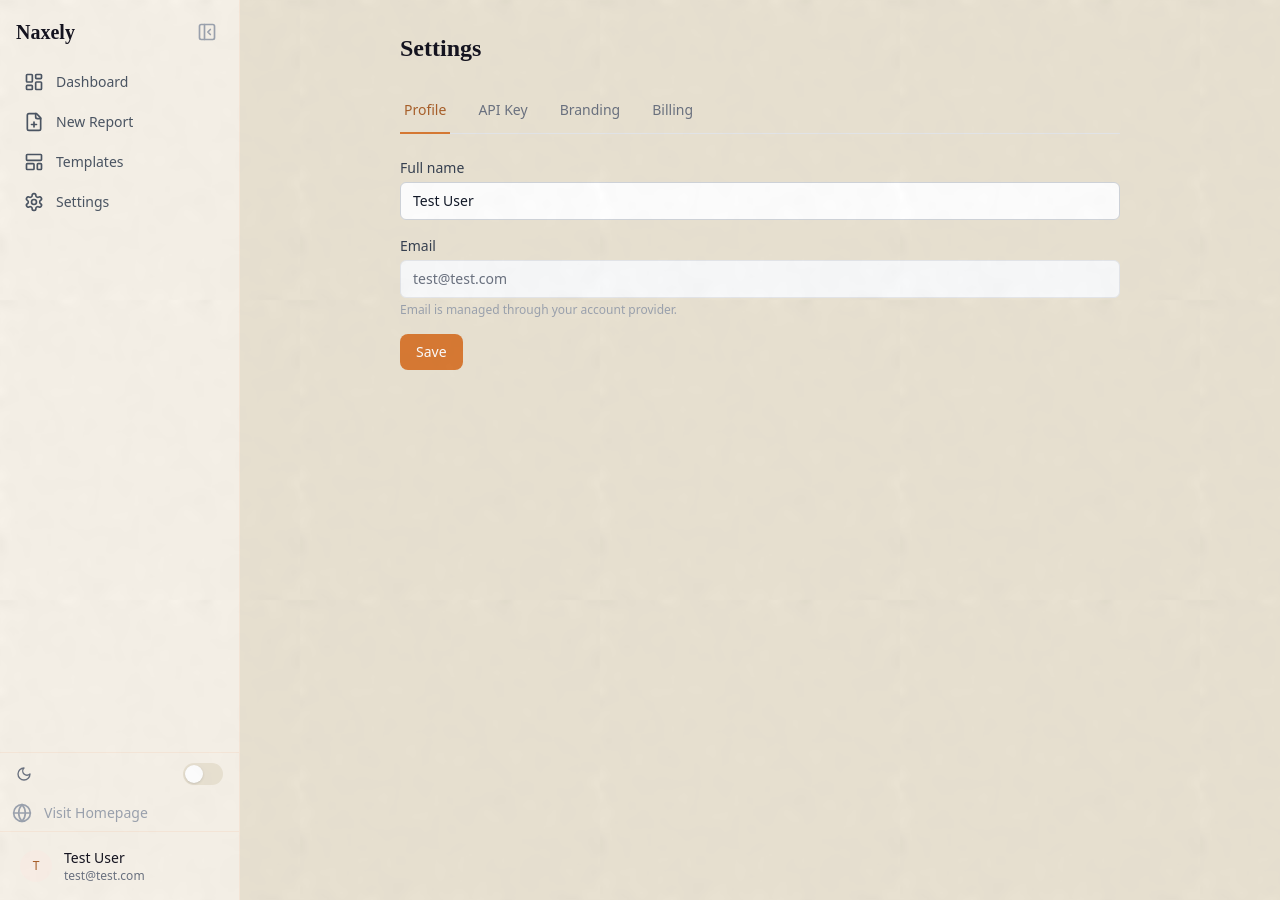
it: Settings › shows branding form for pro user
Expected: the link "Settings" is shown, top-left (24, 192), bottom-right (109, 212)
What coordinates should you click on to do the following:
click the button "Branding"
I would click on:
 (590, 111)
Its box is top-left (556, 88), bottom-right (624, 134).
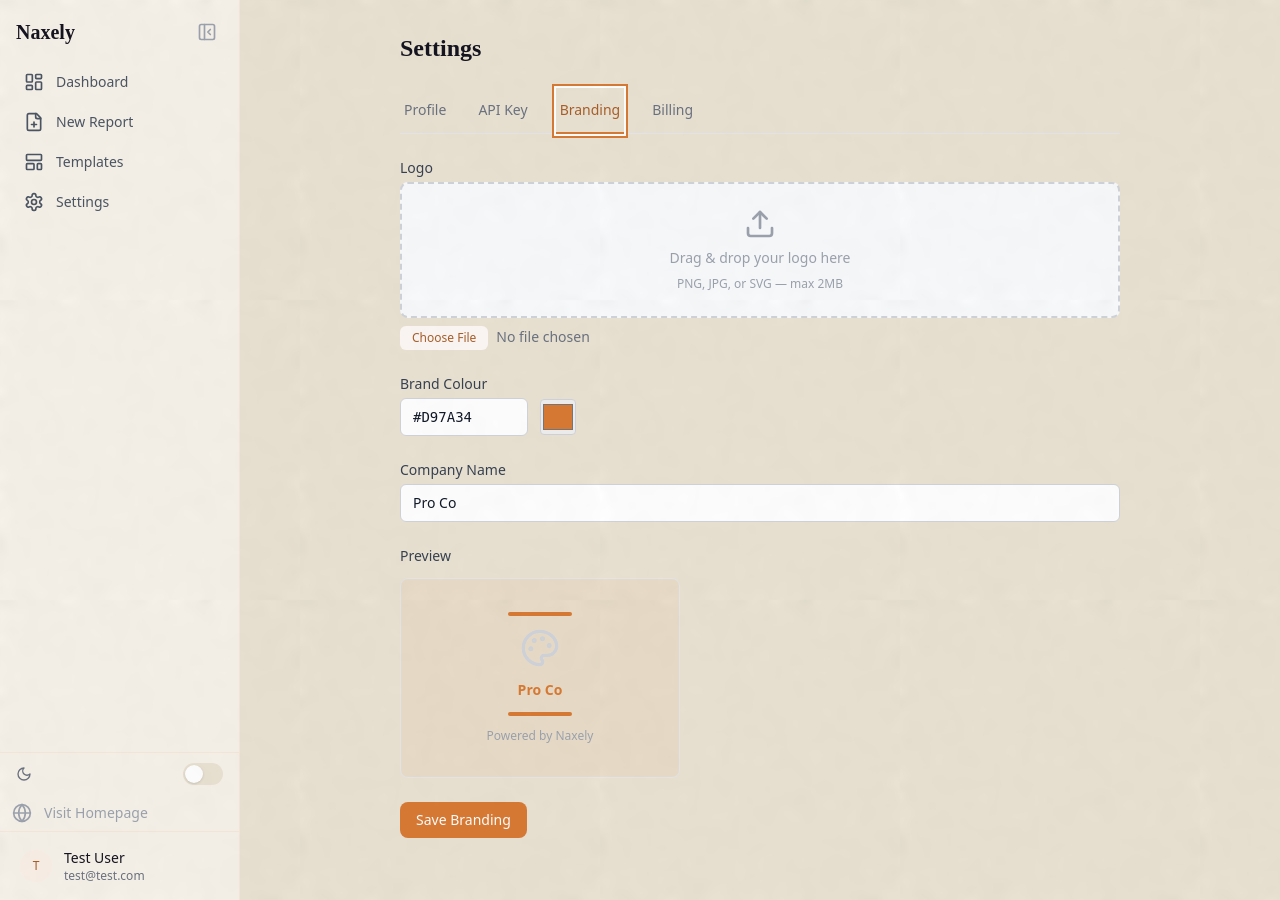
Result: the text "Brand Colour" is shown at top-left (400, 374), bottom-right (487, 393)
Result: the field showing "#D97A34" is shown at top-left (400, 398), bottom-right (528, 436)
Result: the field showing "Pro Co" is shown at top-left (400, 484), bottom-right (1120, 522)
